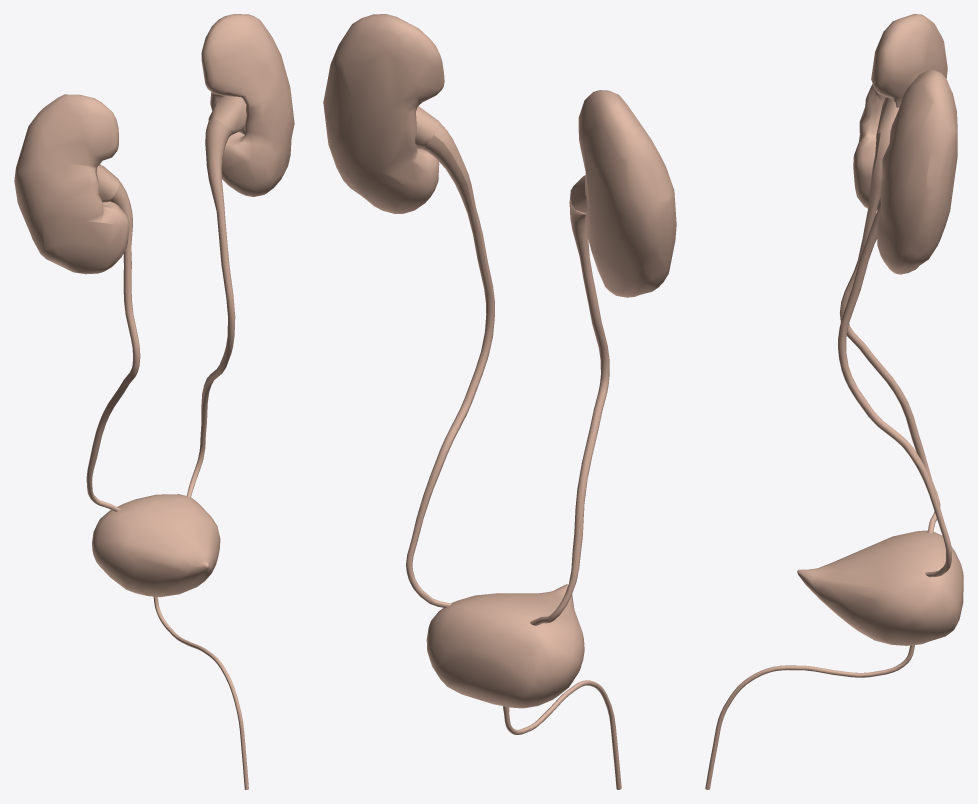
Rendered from urinary.glb.
3 views of the same model, side by side, from view 1: azimuth 30°, elevation 25°; view 2: azimuth 150°, elevation 25°; view 3: azimuth 270°, elevation 25° (orthographic). The views are drawn at different scales.
Visible parts, largest first — view 1: Kidney, Kidney.001x, Urinary bladder, Ureter.001x, Ureter, Urethra, Renal pelvis, Renal pelvis.001x; view 2: Kidney.001x, Kidney, Urinary bladder, Ureter.001x, Ureter, Urethra, Renal pelvis; view 3: Urinary bladder, Kidney.001x, Kidney, Ureter.001x, Ureter, Urethra, Renal pelvis.001x.
Part boxes in pixels (left/top/right/bottom): Kidney: left=14, top=94, right=129, bottom=274; Kidney.001x: left=201, top=14, right=294, bottom=196; Urinary bladder: left=92, top=494, right=220, bottom=597; Ureter.001x: left=186, top=119, right=235, bottom=497; Ureter: left=86, top=181, right=140, bottom=511; Urethra: left=153, top=596, right=248, bottom=789; Renal pelvis: left=208, top=96, right=246, bottom=134; Renal pelvis.001x: left=96, top=165, right=119, bottom=202; Kidney.001x: left=323, top=14, right=444, bottom=213; Kidney: left=578, top=90, right=676, bottom=297; Urinary bladder: left=426, top=584, right=584, bottom=708; Ureter.001x: left=406, top=122, right=494, bottom=607; Ureter: left=530, top=196, right=609, bottom=625; Urethra: left=503, top=680, right=621, bottom=789; Renal pelvis: left=415, top=106, right=439, bottom=149; Urinary bladder: left=797, top=530, right=963, bottom=645; Kidney.001x: left=876, top=70, right=957, bottom=274; Kidney: left=853, top=14, right=947, bottom=210; Ureter.001x: left=838, top=203, right=951, bottom=577; Ureter: left=839, top=132, right=940, bottom=533; Urethra: left=705, top=645, right=914, bottom=789; Renal pelvis.001x: left=876, top=97, right=898, bottom=134.
Size of the model in its own units: 1.25 by 2.94 by 0.9041.
